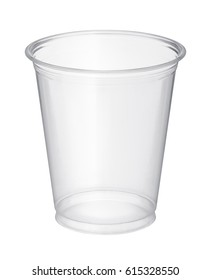plastic_bottle: (23, 26, 190, 239)
